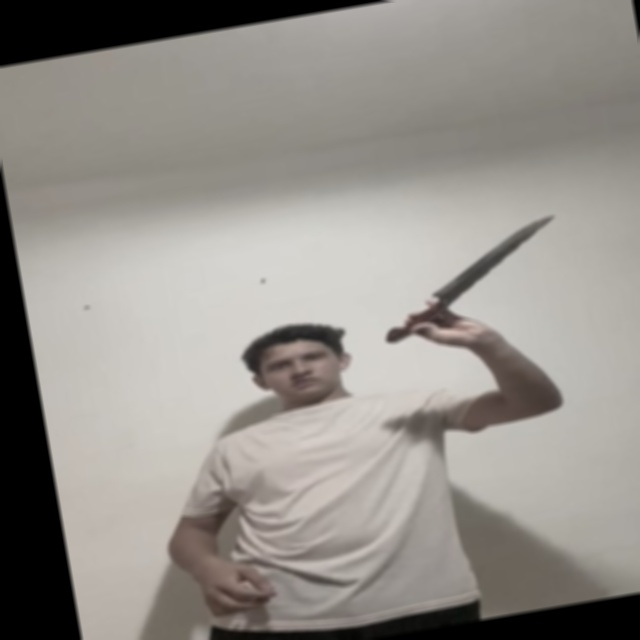Sharp-Object: (419, 216, 563, 300)
